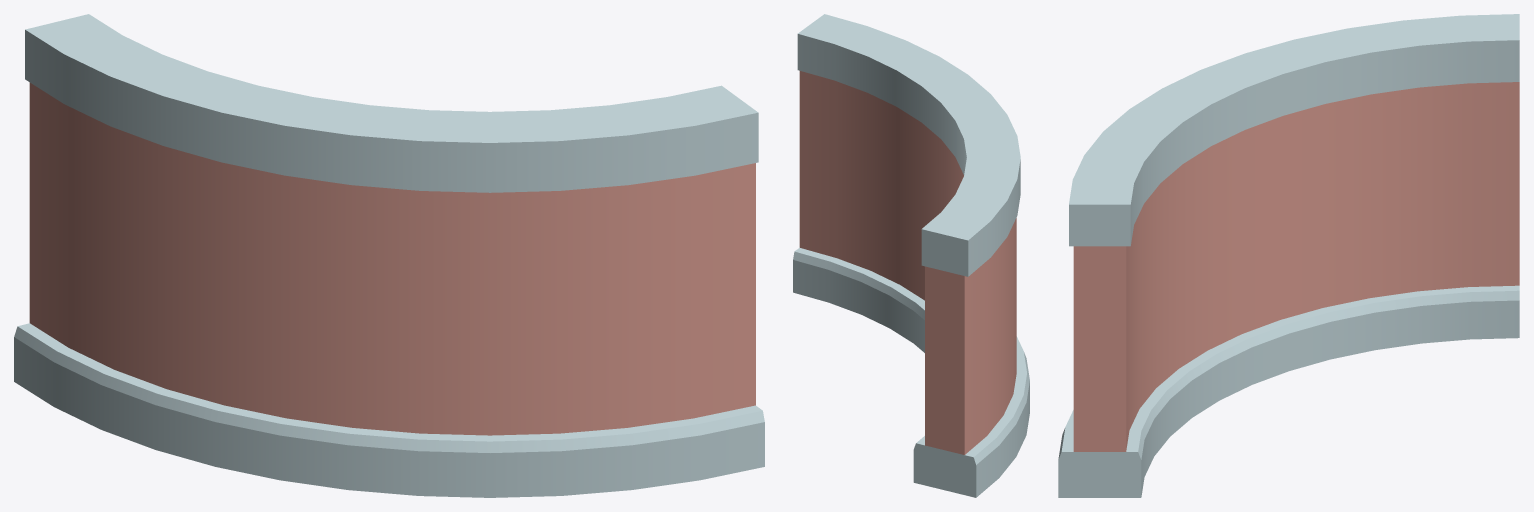
File: brickWallCurve.glb
The picture shows the model from 3 angles, left to right: view 1: azimuth 30°, elevation 25°; view 2: azimuth 150°, elevation 25°; view 3: azimuth 270°, elevation 25°; orthographic projection. The views are drawn at different scales.
Parts seen in each view (by area): view 1: brickWallCurve; view 2: brickWallCurve; view 3: brickWallCurve.
Boxes of the visible parts, box(x1,y1,x2,y2) form: brickWallCurve: box(14, 14, 764, 497); brickWallCurve: box(793, 14, 1029, 497); brickWallCurve: box(1058, 14, 1519, 497).
Size of the model in its own units: 1 by 0.7019 by 1.
